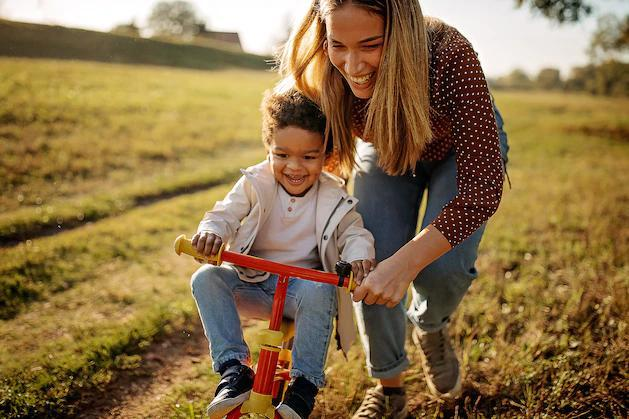child: (161, 82, 381, 413)
